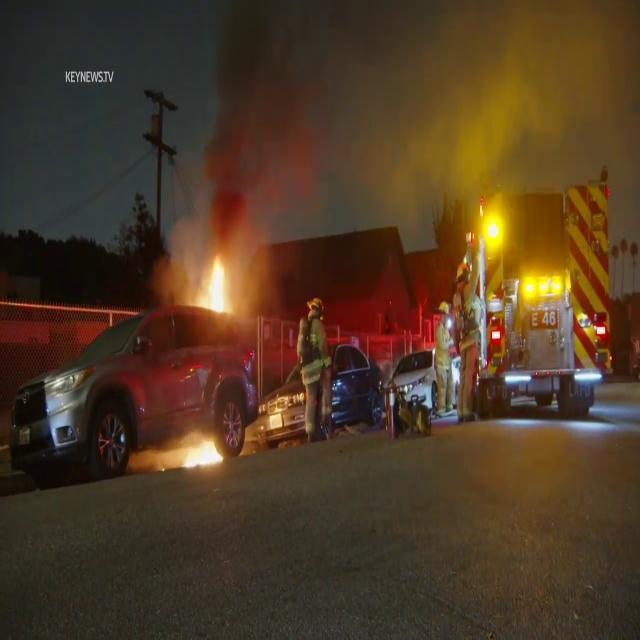Fire: (194, 250, 238, 324), (166, 430, 228, 468)
Smoke: (378, 0, 639, 209), (178, 0, 369, 236)
